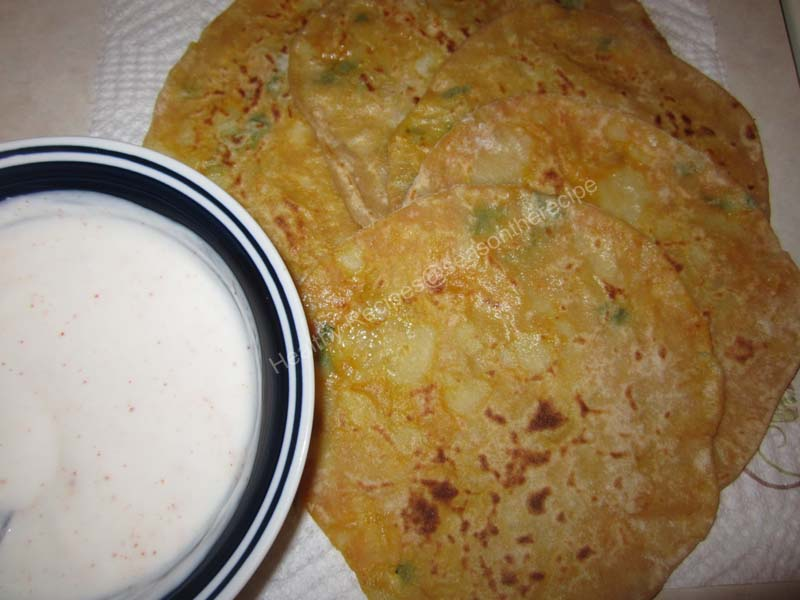aloo_paratha: (153, 3, 796, 600)
